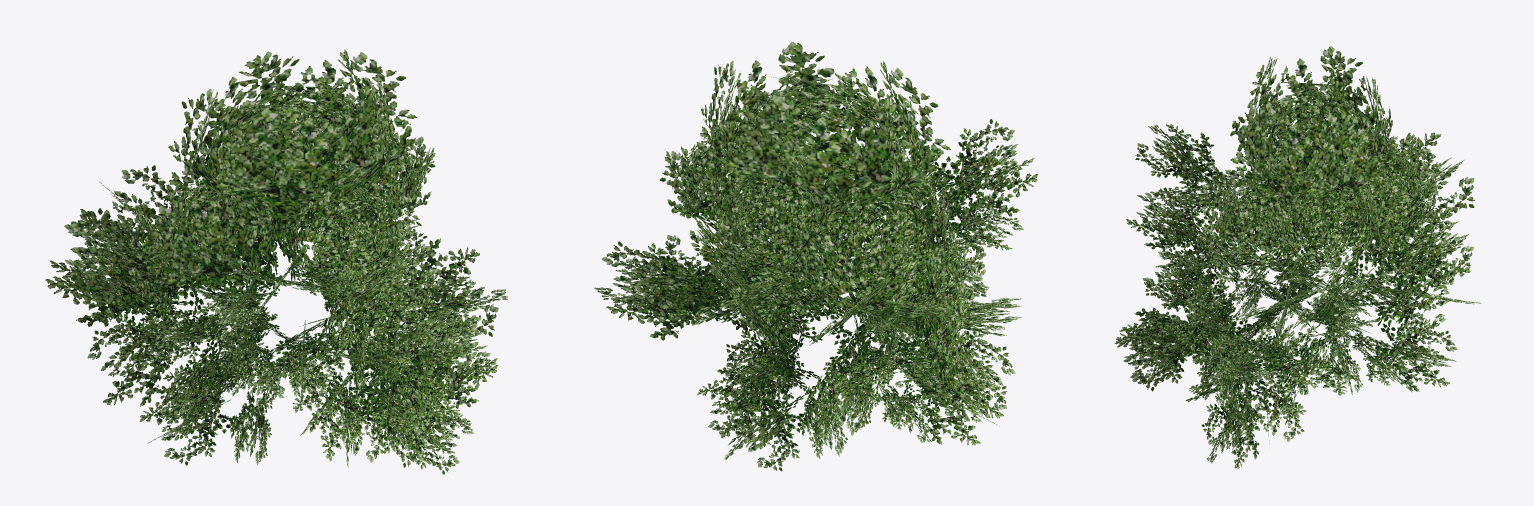
Rendered from tree_oak_new_top_a.glb.
3 renders of one model, left to right at view 1: azimuth 30°, elevation 25°; view 2: azimuth 150°, elevation 25°; view 3: azimuth 270°, elevation 25°, orthographic. The views are drawn at different scales.
Visible parts, largest first — view 1: tree_oak_new_top_a; view 2: tree_oak_new_top_a; view 3: tree_oak_new_top_a.
Part boxes in pixels (x1,y1,x2,y2): tree_oak_new_top_a: (45, 49, 507, 474); tree_oak_new_top_a: (594, 42, 1038, 471); tree_oak_new_top_a: (1114, 46, 1481, 468).
Size of the model in its own units: 21.56 by 18.63 by 19.22.
Materials: 1 (1 with a texture image).
